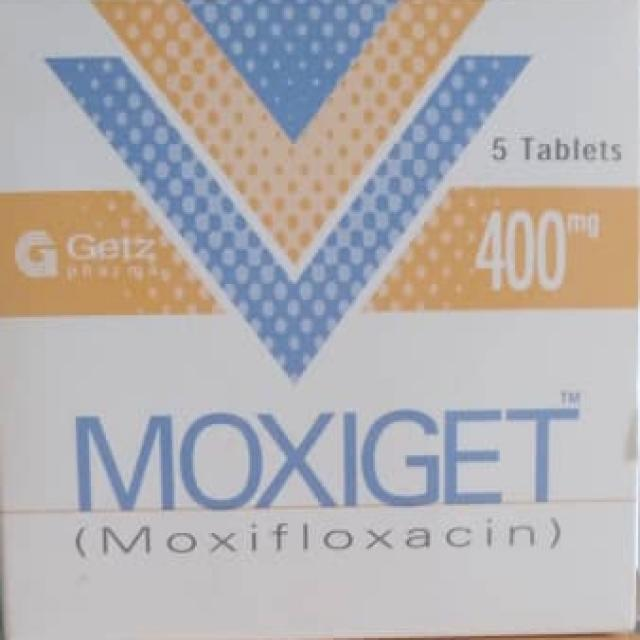drug-name: (68, 404, 578, 516)
